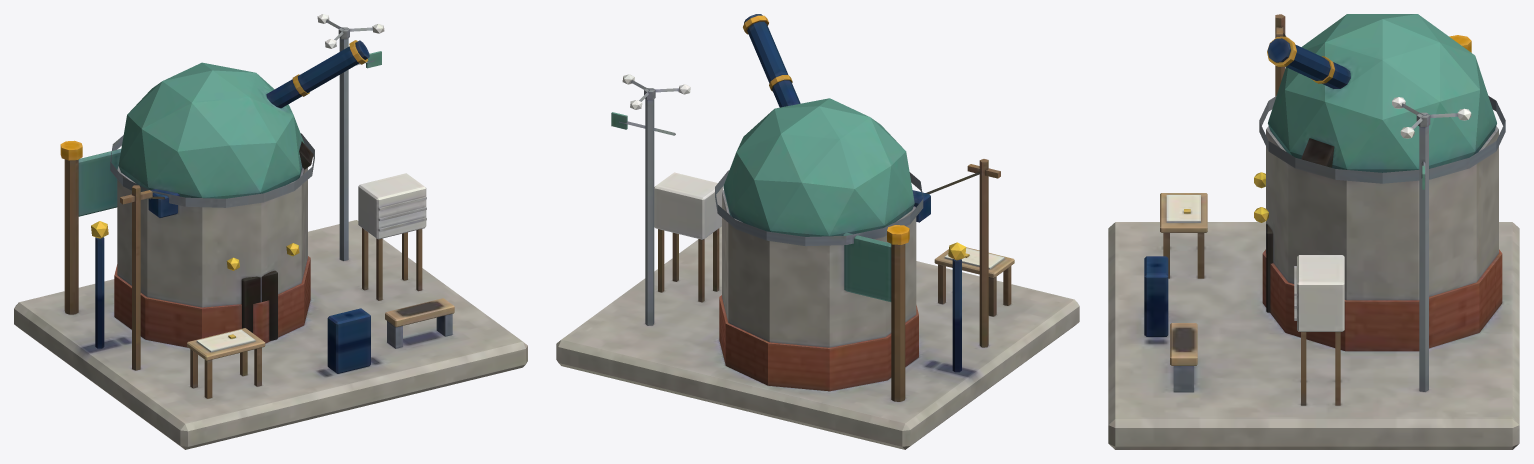
Rendered from observatory-20.glb.
3 renders of one model, left to right at view 1: azimuth 30°, elevation 25°; view 2: azimuth 150°, elevation 25°; view 3: azimuth 270°, elevation 25°, orthographic. The views are drawn at different scales.
Visible parts, largest first — view 1: observatory-20; view 2: observatory-20; view 3: observatory-20.
Part boxes in pixels (x1,y1,x2,y2): observatory-20: (14,14,527,449); observatory-20: (556,14,1079,449); observatory-20: (1108,14,1519,449).
Bounding box in the file's own units: 1.4 × 1.15 × 1.2.
Materials: 1 (1 with a texture image).
